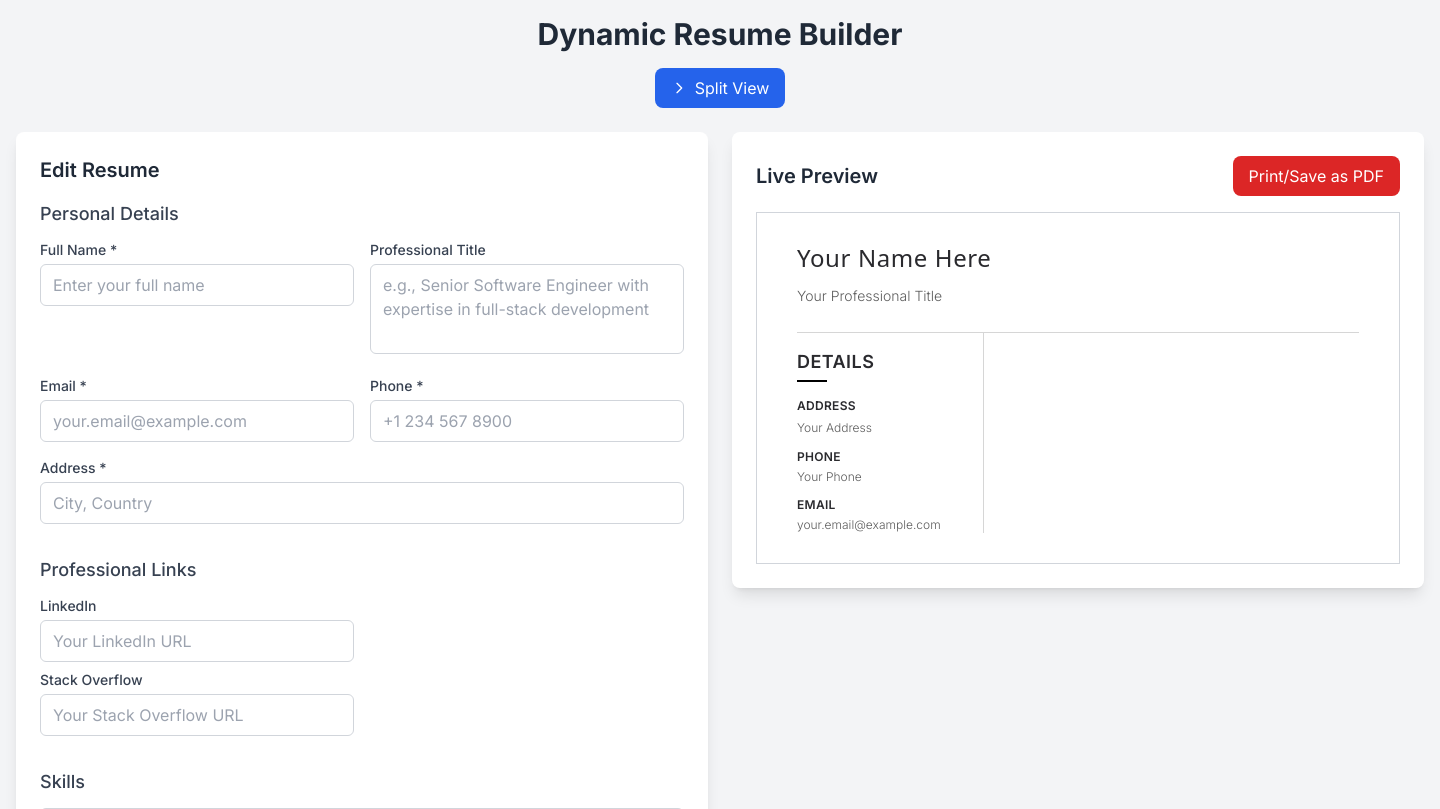
Test: BuilderPage Component › form validation works for required fields
// Try to download PDF without filling required fields
Click the button "Print/Save as PDF".
click(1316, 176)  # box [1233,156,1400,196]
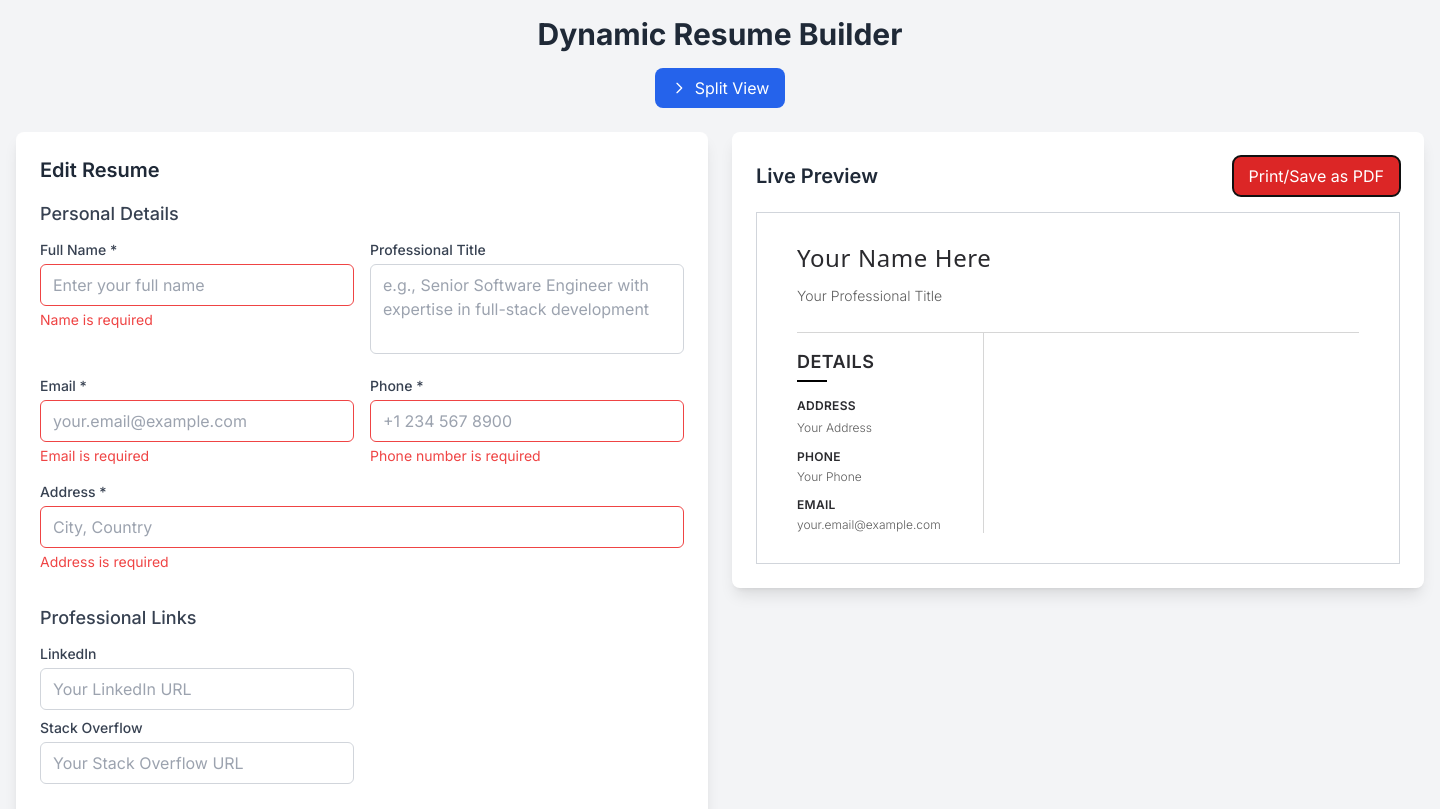
Expected: the text "Name is required" is shown, [40,311,153,328]
Expected: the text "Email is required" is shown, [40,447,149,464]
